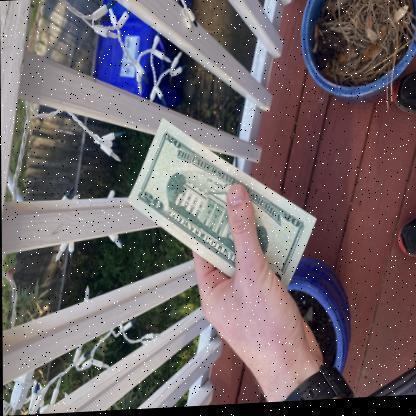twenty-back: (127, 119, 318, 313)
